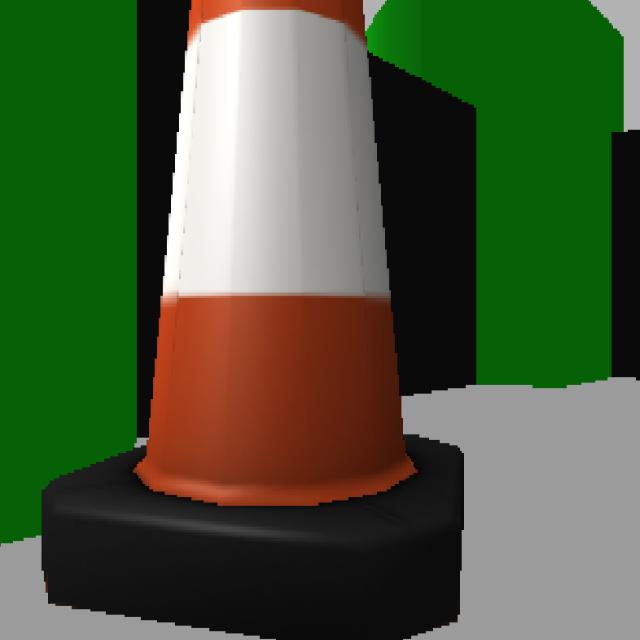cone: (40, 0, 465, 640)
